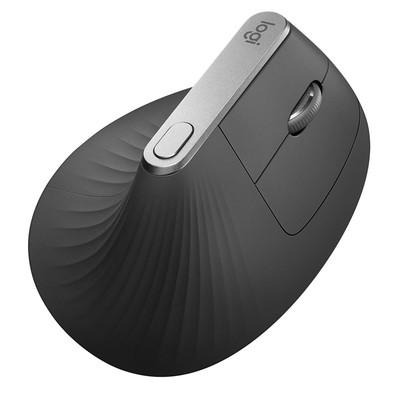mouse: (24, 16, 378, 377)
